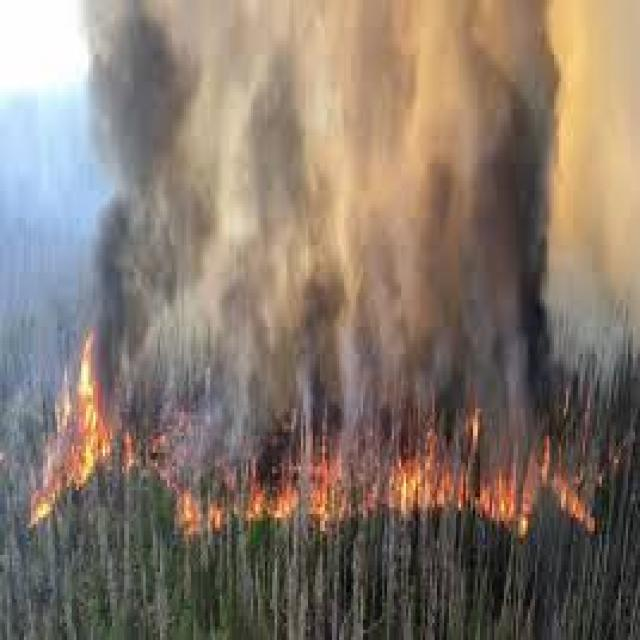Fire: (376, 408, 606, 541), (167, 416, 375, 540), (23, 333, 112, 554)
Smoke: (430, 0, 640, 201), (433, 204, 639, 406), (72, 1, 255, 206), (258, 200, 432, 406), (255, 0, 430, 197), (96, 208, 258, 416)
